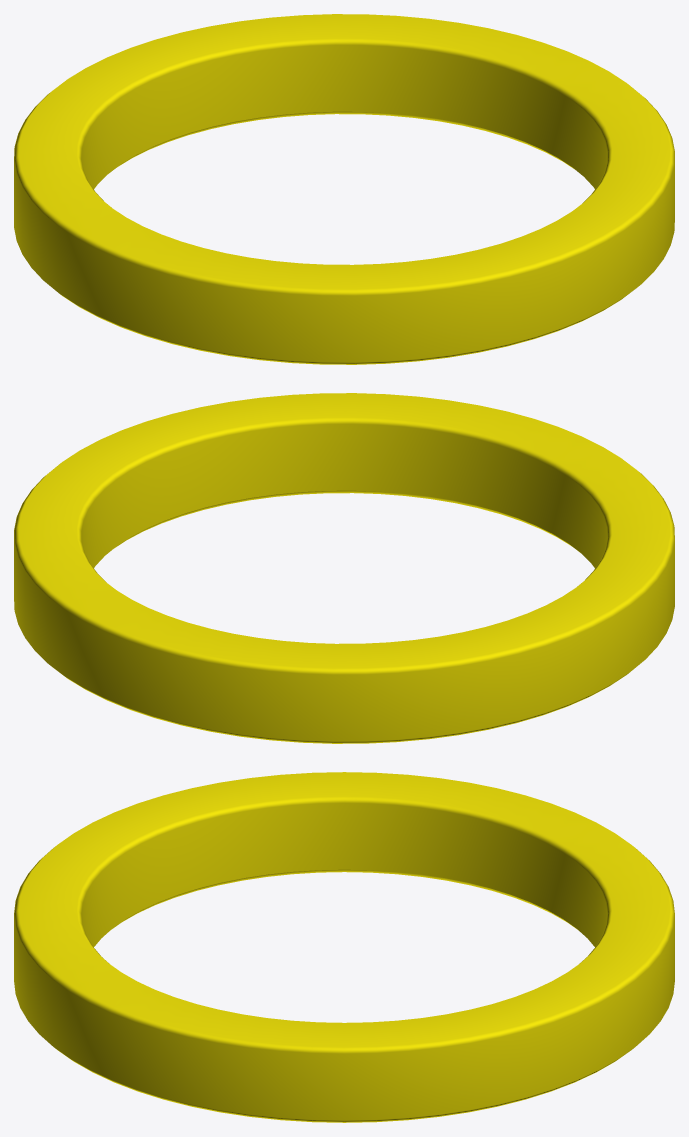
3 views of the same model, one above another, from view 1: azimuth 30°, elevation 25°; view 2: azimuth 150°, elevation 25°; view 3: azimuth 270°, elevation 25° (orthographic).
Visible parts, largest first — view 1: seal_body; view 2: seal_body; view 3: seal_body.
Part boxes in pixels (x1,y1,x2,y2): seal_body: (14, 14, 674, 364); seal_body: (14, 393, 674, 743); seal_body: (14, 772, 674, 1122).
Size of the model in its own units: 0.0503 by 0.00635 by 0.0503.
